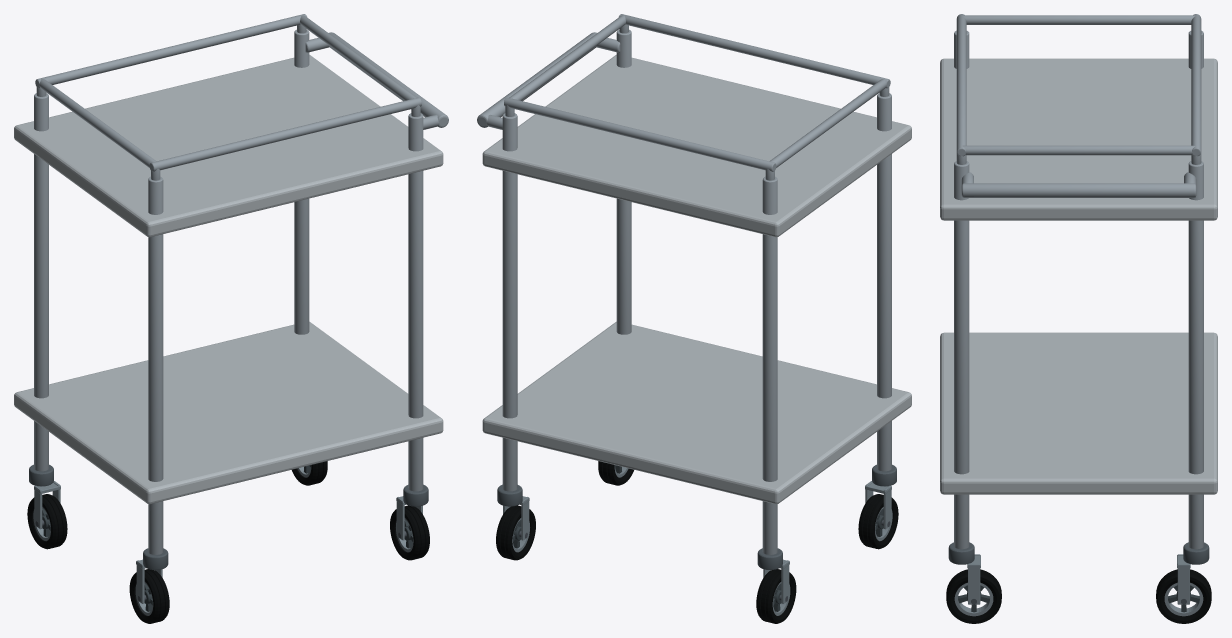
File: asset.fbx
3 renders of one model, left to right at view 1: azimuth 30°, elevation 25°; view 2: azimuth 150°, elevation 25°; view 3: azimuth 270°, elevation 25°, orthographic. The views are drawn at different scales.
Parts seen in each view (by area): view 1: radcare_treatment_cart_shelf_lower, radcare_treatment_cart_shelf_upper, radcare_treatment_cart_frame_front_right_post, radcare_treatment_cart_frame_front_left_post, radcare_treatment_cart_frame_back_left_post, radcare_treatment_cart_upper_rail_front, radcare_treatment_cart_upper_rail_back, radcare_treatment_cart_frame_back_right_post, radcare_treatment_cart_upper_rail_left, radcare_treatment_cart_upper_rail_right, radcare_treatment_cart_wheel_back_left, radcare_treatment_cart_wheel_front_left (+2 smaller); view 2: radcare_treatment_cart_shelf_lower, radcare_treatment_cart_shelf_upper, radcare_treatment_cart_frame_back_right_post, radcare_treatment_cart_frame_back_left_post, radcare_treatment_cart_frame_front_left_post, radcare_treatment_cart_upper_rail_back, radcare_treatment_cart_upper_rail_front, radcare_treatment_cart_frame_front_right_post, radcare_treatment_cart_upper_rail_left, radcare_treatment_cart_upper_rail_right, radcare_treatment_cart_wheel_front_left, radcare_treatment_cart_wheel_back_left (+2 smaller); view 3: radcare_treatment_cart_shelf_lower, radcare_treatment_cart_shelf_upper, radcare_treatment_cart_frame_front_right_post, radcare_treatment_cart_frame_back_right_post, radcare_treatment_cart_push_handle_grip, radcare_treatment_cart_upper_rail_right, radcare_treatment_cart_upper_rail_left, radcare_treatment_cart_upper_rail_front, radcare_treatment_cart_upper_rail_back, radcare_treatment_cart_wheel_front_right, radcare_treatment_cart_wheel_back_right, radcare_treatment_cart_wheel_front_right_fork_b (+5 smaller).
Part boxes in pixels (x1,y1,x2,y2): radcare_treatment_cart_shelf_lower: (14,321,443,504); radcare_treatment_cart_shelf_upper: (14,54,443,237); radcare_treatment_cart_frame_front_right_post: (408,113,423,491); radcare_treatment_cart_frame_front_left_post: (148,176,163,554); radcare_treatment_cart_frame_back_left_post: (34,93,48,471); radcare_treatment_cart_upper_rail_front: (149,97,421,171); radcare_treatment_cart_upper_rail_back: (35,14,306,88); radcare_treatment_cart_frame_back_right_post: (294,29,309,334); radcare_treatment_cart_upper_rail_left: (39,79,156,167); radcare_treatment_cart_upper_rail_right: (300,15,416,100); radcare_treatment_cart_wheel_back_left: (27,494,67,549); radcare_treatment_cart_wheel_front_left: (129,569,169,623); radcare_treatment_cart_shelf_lower: (482,321,911,504); radcare_treatment_cart_shelf_upper: (482,54,911,237); radcare_treatment_cart_frame_back_right_post: (502,113,517,491); radcare_treatment_cart_frame_back_left_post: (762,176,777,554); radcare_treatment_cart_frame_front_left_post: (877,93,891,471); radcare_treatment_cart_upper_rail_back: (504,97,776,171); radcare_treatment_cart_upper_rail_front: (619,14,890,88); radcare_treatment_cart_frame_front_right_post: (616,29,631,334); radcare_treatment_cart_upper_rail_left: (769,79,886,167); radcare_treatment_cart_upper_rail_right: (509,15,625,100); radcare_treatment_cart_wheel_front_left: (858,494,898,549); radcare_treatment_cart_wheel_back_left: (756,569,796,623); radcare_treatment_cart_shelf_lower: (940,332,1217,494); radcare_treatment_cart_shelf_upper: (940,58,1217,220); radcare_treatment_cart_frame_front_right_post: (954,161,969,549); radcare_treatment_cart_frame_back_right_post: (1188,161,1203,549); radcare_treatment_cart_push_handle_grip: (961,183,1196,197); radcare_treatment_cart_upper_rail_right: (962,145,1195,155); radcare_treatment_cart_upper_rail_left: (962,15,1195,24); radcare_treatment_cart_upper_rail_front: (956,14,966,156); radcare_treatment_cart_upper_rail_back: (1191,14,1201,156); radcare_treatment_cart_wheel_front_right: (946,569,1001,623); radcare_treatment_cart_wheel_back_right: (1156,569,1211,623); radcare_treatment_cart_wheel_front_right_fork_b: (968,563,980,604).
Bounding box in the file's own units: 0.6 × 0.85 × 0.45.
